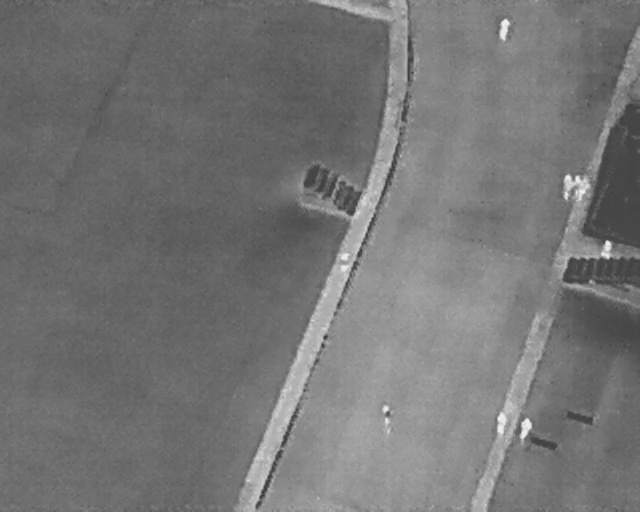Person: (515, 414, 536, 444), (561, 173, 574, 202), (337, 253, 353, 276), (601, 236, 615, 260), (495, 410, 507, 436), (499, 16, 510, 43), (381, 402, 392, 429), (572, 176, 583, 202), (581, 174, 592, 198)
